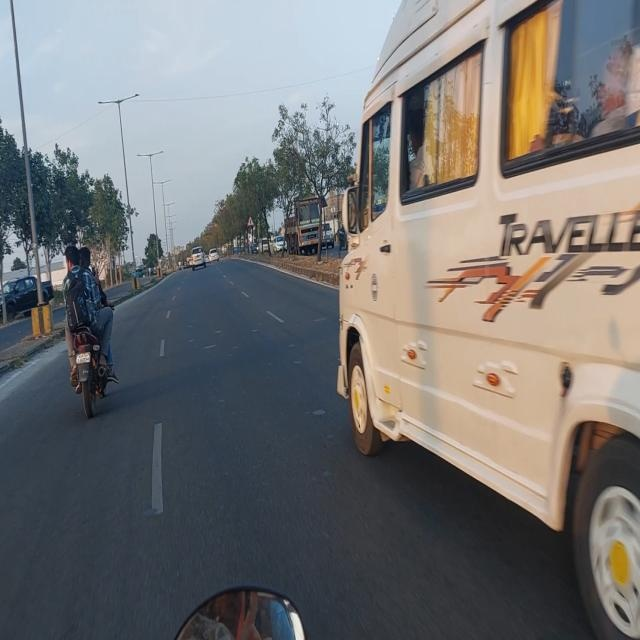bien_nguy_hiem: (247, 214, 254, 228)
